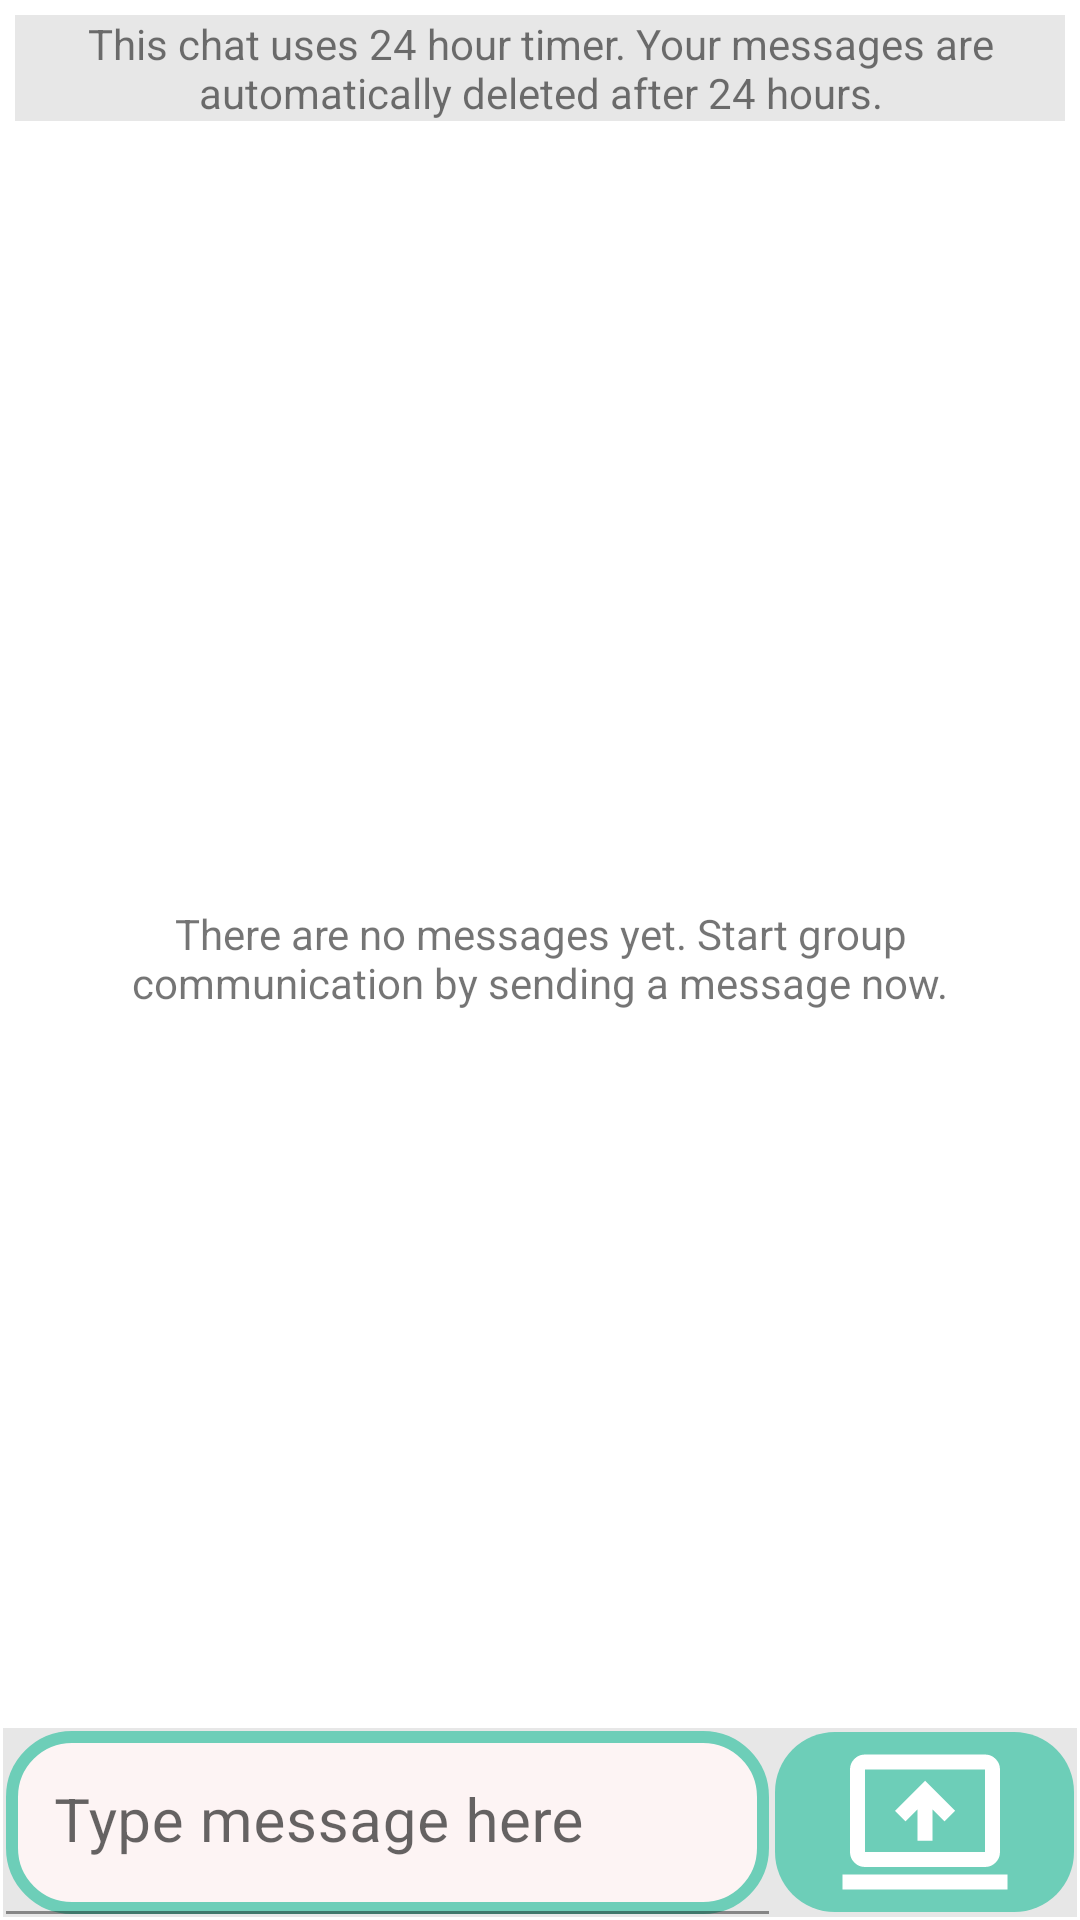

Screen size 1080 × 1920. Icon name, then its box in pixels as detection(x1, y1, x2, y2):
send: detection(775, 1732, 1074, 1912)
